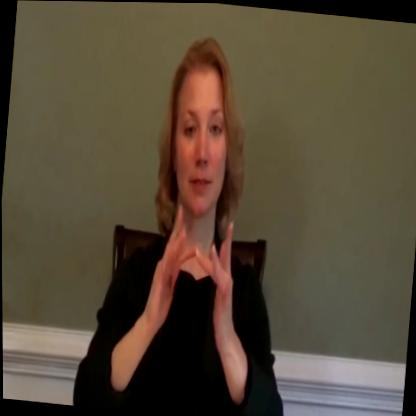Internet: (142, 199, 258, 366)
